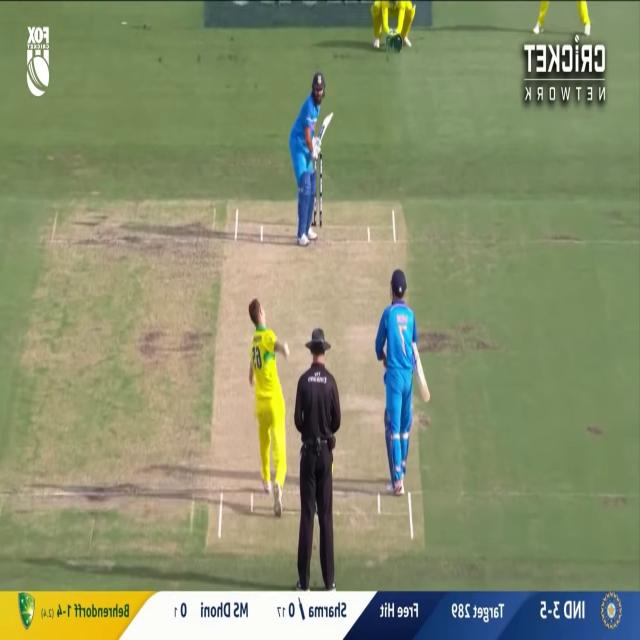stump: (311, 150, 322, 224)
